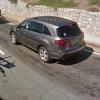Car: (6, 10, 94, 66)
